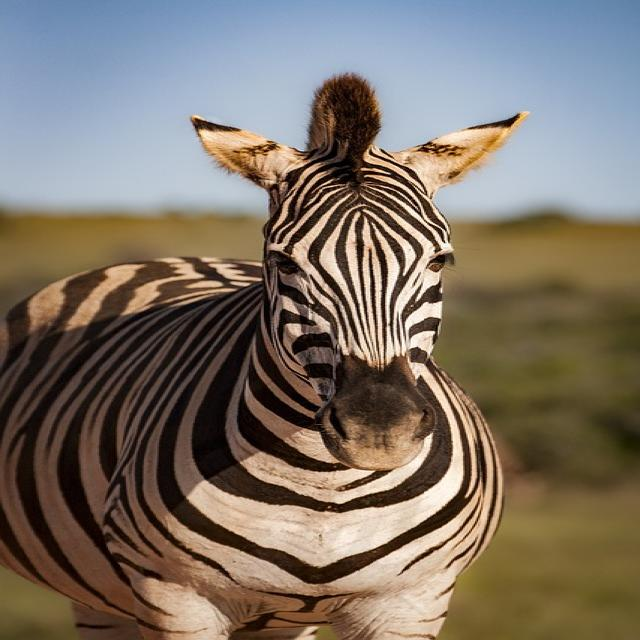Herbivorous: (0, 73, 526, 640)
